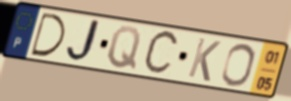C: (141, 28, 182, 78)
D: (29, 10, 68, 59)
J: (64, 18, 106, 65)
K: (185, 36, 223, 84)
O: (219, 42, 257, 89)
Q: (105, 25, 143, 72)
